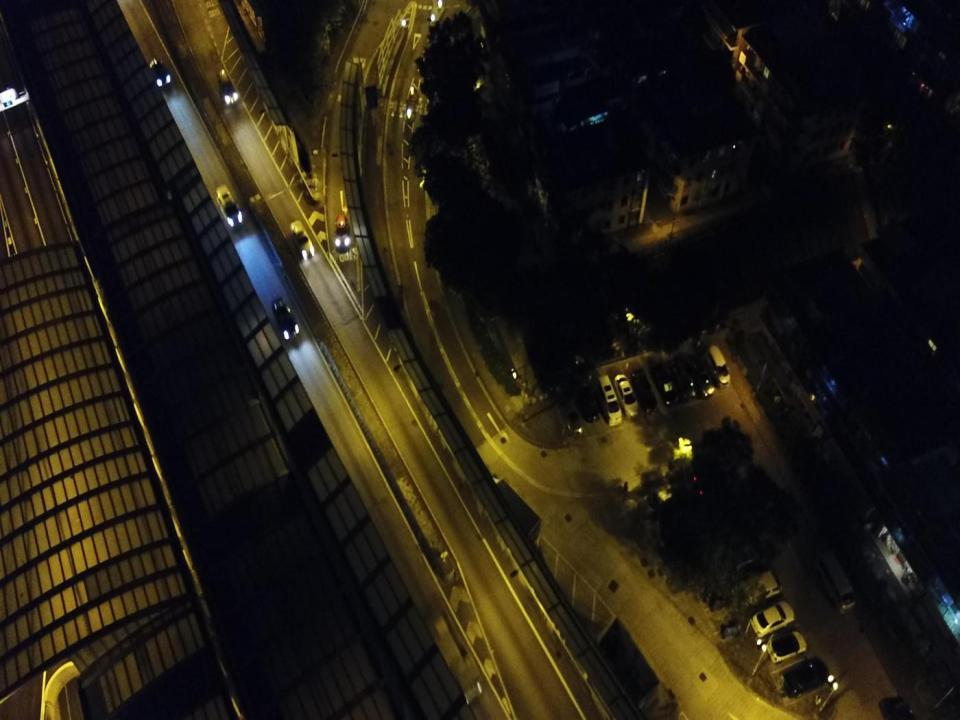bus: (814, 548, 856, 615)
car: (780, 656, 830, 698), (750, 599, 796, 639), (596, 374, 624, 426), (571, 376, 600, 423), (271, 296, 300, 342), (650, 362, 680, 406), (766, 630, 807, 662), (630, 372, 660, 415), (688, 354, 716, 398), (613, 373, 640, 418), (216, 184, 243, 228), (557, 390, 583, 435), (672, 357, 697, 401), (290, 218, 315, 260), (216, 69, 239, 106), (149, 56, 171, 88), (334, 214, 351, 249)
van: (742, 568, 783, 608), (704, 344, 732, 390)
